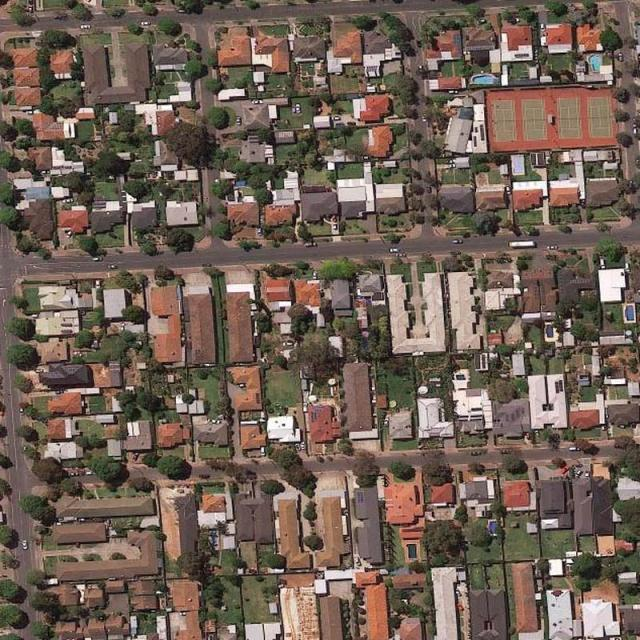vehicle: (510, 242, 535, 246), (557, 465, 568, 473), (207, 418, 219, 424), (131, 452, 139, 461), (574, 469, 582, 478), (470, 449, 482, 455), (107, 263, 118, 269), (354, 557, 361, 566), (81, 24, 91, 30), (282, 341, 294, 346), (62, 197, 73, 202), (304, 242, 317, 246), (22, 539, 27, 549), (601, 259, 606, 269), (119, 322, 124, 332), (66, 230, 72, 238), (584, 470, 590, 478), (625, 263, 630, 272), (501, 448, 510, 453), (92, 257, 103, 261), (252, 100, 263, 104), (547, 246, 558, 250), (455, 590, 461, 597), (457, 604, 464, 610), (19, 406, 24, 414), (95, 280, 100, 288), (396, 253, 406, 257), (257, 229, 262, 237), (299, 441, 304, 449), (568, 446, 578, 450), (302, 402, 307, 410), (618, 54, 623, 62), (633, 124, 637, 134), (236, 384, 246, 388), (453, 240, 462, 244), (506, 185, 510, 194), (260, 446, 264, 455), (448, 89, 457, 93), (333, 223, 338, 230), (383, 418, 388, 425), (142, 22, 150, 26), (296, 104, 300, 112), (314, 272, 318, 280), (422, 114, 426, 122), (42, 170, 50, 174), (237, 118, 242, 124), (294, 443, 299, 449), (330, 116, 340, 119), (214, 179, 219, 185), (526, 433, 530, 440), (26, 110, 33, 114), (28, 5, 32, 12), (390, 249, 398, 252), (535, 430, 539, 436), (450, 164, 455, 167), (450, 160, 456, 162)
